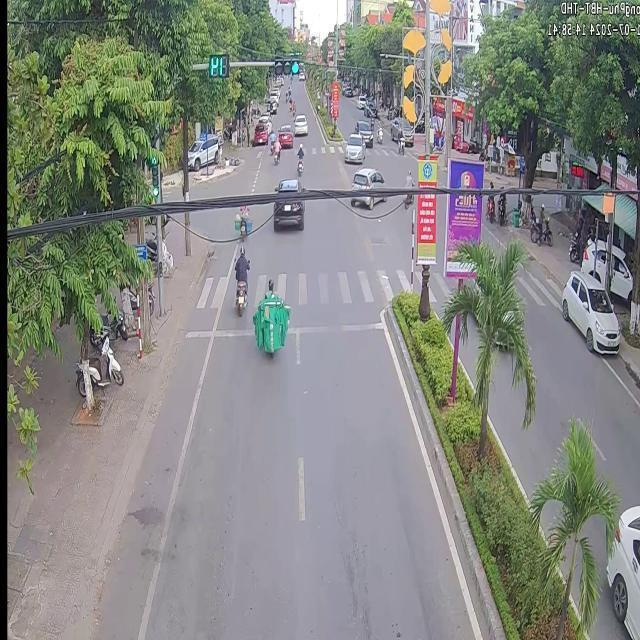car: (272, 176, 303, 229), (350, 167, 383, 188), (343, 131, 364, 162), (349, 196, 373, 207)
green_light: (272, 54, 298, 74), (149, 156, 157, 198)
motobike: (250, 278, 288, 354), (233, 245, 248, 314), (296, 142, 302, 174)
stop_line: (284, 320, 382, 333), (184, 326, 252, 334)
